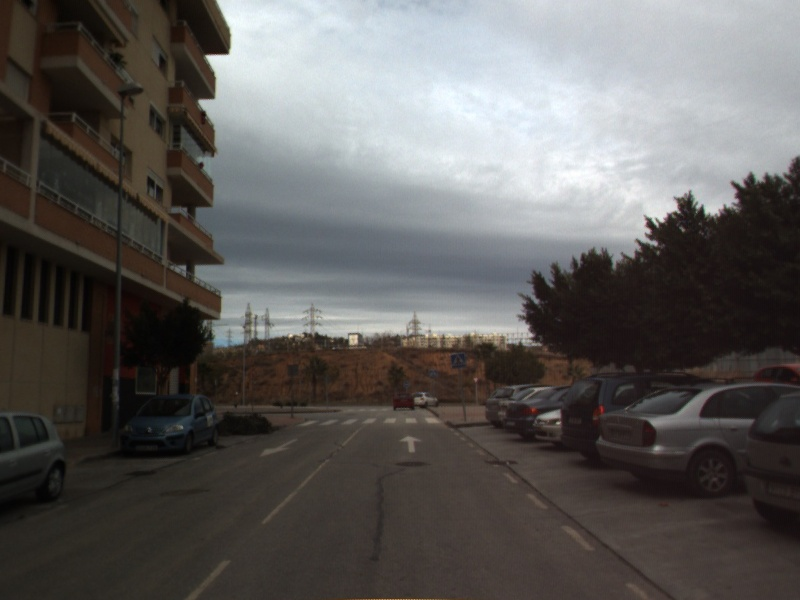STRAIGHT: (397, 433, 424, 455)
